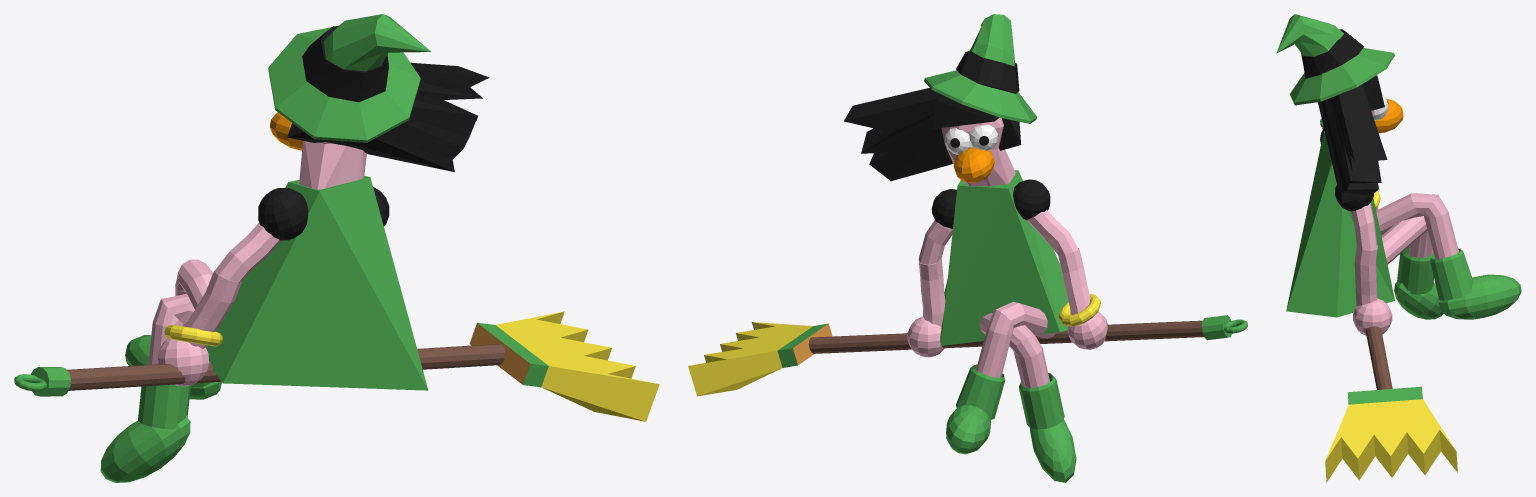
File: verde_ingame.fbx
3 renders of one model, left to right at view 1: azimuth 30°, elevation 25°; view 2: azimuth 150°, elevation 25°; view 3: azimuth 270°, elevation 25°, orthographic. The views are drawn at different scales.
Visible parts, largest first — view 1: mesh_240340077, mesh_801353689, mesh_1108634640, mesh_522835058, mesh_482772472, mesh_1255168626, mesh_1019370156, mesh_104699510, mesh_811559775, mesh_13987301, mesh_252787808, mesh_581253501 (+6 smaller); view 2: mesh_240340077, mesh_522835058, mesh_1108634640, mesh_801353689, mesh_482772472, mesh_1255168626, mesh_762911156, mesh_13987301, mesh_1019370156, mesh_529413551, mesh_424486395, mesh_104699510 (+15 smaller); view 3: mesh_240340077, mesh_1108634640, mesh_522835058, mesh_801353689, mesh_762911156, mesh_424486395, mesh_529413551, mesh_1019370156, mesh_469911954, mesh_13987301, mesh_134991641, mesh_982881240 (+8 smaller).
Part boxes in pixels (x1=…): mesh_240340077: x1=206, y1=175, x2=428, y2=390; mesh_801353689: x1=268, y1=14, x2=431, y2=142; mesh_1108634640: x1=469, y1=311, x2=659, y2=421; mesh_522835058: x1=287, y1=62, x2=489, y2=171; mesh_482772472: x1=67, y1=344, x2=505, y2=390; mesh_1255168626: x1=100, y1=416, x2=190, y2=482; mesh_1019370156: x1=302, y1=26, x2=388, y2=102; mesh_104699510: x1=299, y1=140, x2=366, y2=189; mesh_811559775: x1=258, y1=188, x2=308, y2=240; mesh_13987301: x1=138, y1=362, x2=190, y2=428; mesh_252787808: x1=184, y1=270, x2=242, y2=349; mesh_581253501: x1=215, y1=222, x2=281, y2=282; mesh_240340077: x1=940, y1=170, x2=1068, y2=345; mesh_522835058: x1=844, y1=88, x2=1021, y2=180; mesh_1108634640: x1=688, y1=322, x2=832, y2=396; mesh_801353689: x1=924, y1=14, x2=1036, y2=123; mesh_482772472: x1=808, y1=320, x2=1203, y2=353; mesh_1255168626: x1=1030, y1=419, x2=1076, y2=482; mesh_762911156: x1=946, y1=405, x2=990, y2=454; mesh_13987301: x1=1019, y1=373, x2=1064, y2=429; mesh_1019370156: x1=956, y1=50, x2=1019, y2=93; mesh_529413551: x1=976, y1=310, x2=1013, y2=377; mesh_424486395: x1=956, y1=364, x2=1005, y2=419; mesh_104699510: x1=941, y1=117, x2=1015, y2=186; mesh_240340077: x1=1286, y1=131, x2=1394, y2=317; mesh_1108634640: x1=1325, y1=386, x2=1457, y2=482; mesh_522835058: x1=1318, y1=84, x2=1387, y2=203; mesh_801353689: x1=1276, y1=14, x2=1394, y2=105; mesh_762911156: x1=1439, y1=274, x2=1521, y2=319; mesh_424486395: x1=1430, y1=248, x2=1473, y2=300; mesh_529413551: x1=1423, y1=195, x2=1458, y2=259; mesh_1019370156: x1=1301, y1=29, x2=1364, y2=78; mesh_469911954: x1=1376, y1=193, x2=1438, y2=235; mesh_13987301: x1=1397, y1=246, x2=1433, y2=294; mesh_134991641: x1=1354, y1=245, x2=1377, y2=306; mesh_982881240: x1=1381, y1=216, x2=1427, y2=264.
Size of the model in its own units: 174 by 128 by 77.65.
